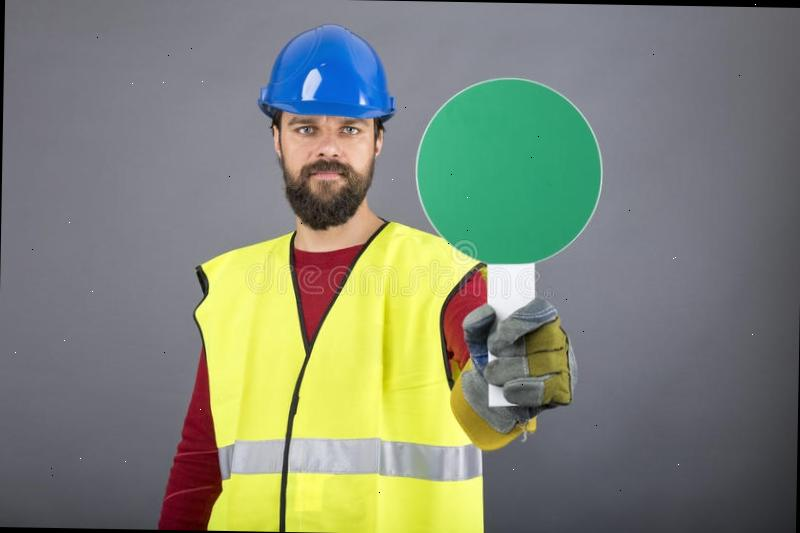helmet: (254, 24, 397, 122)
wear: (191, 233, 482, 533)
